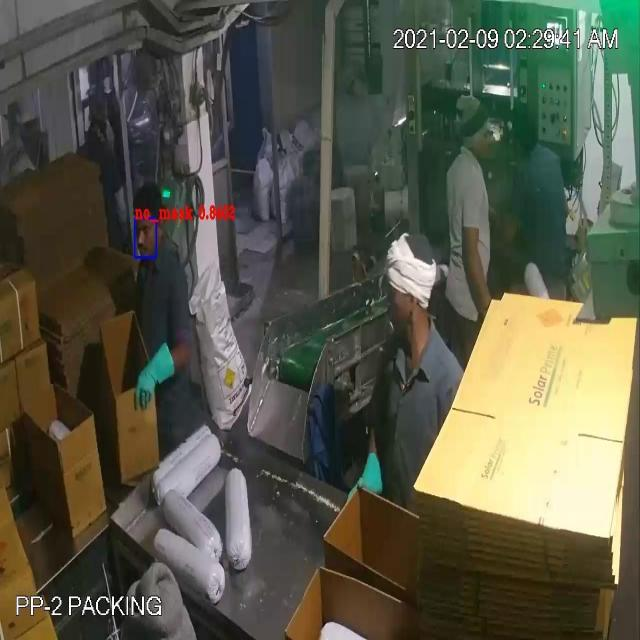Gloves: (47, 66, 479, 483)
